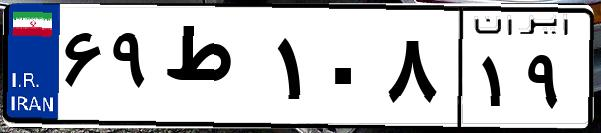0: (330, 28, 385, 110)
1: (270, 28, 330, 110), (475, 38, 525, 113)
6: (57, 26, 110, 100)
8: (385, 28, 445, 110)
9: (525, 38, 570, 115), (110, 28, 158, 98)
ط: (158, 20, 270, 120)
